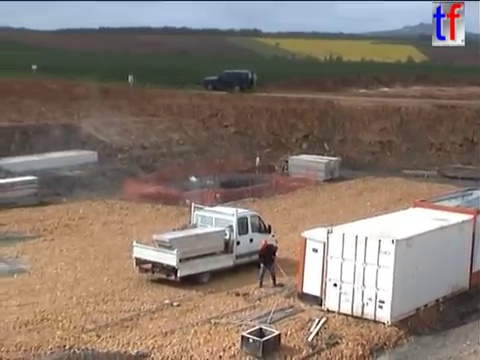truck: (130, 200, 280, 286)
worker: (255, 238, 281, 289)
